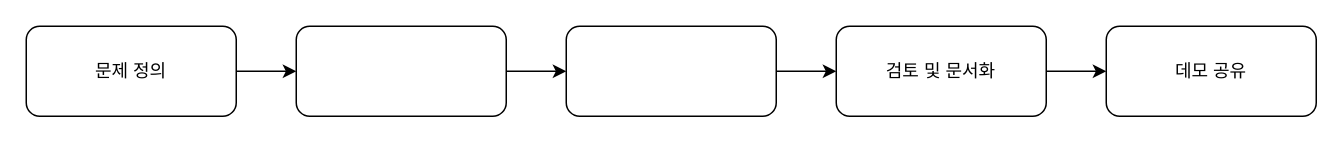
Image size: 1343x143. Some labels were removed from this diagram. Here are the shapes that lost their labels. From the top down, the box of each, then its label:
(295, 25, 506, 116): 솔루션 스케치
(565, 25, 776, 116): 프로토타입 구현
